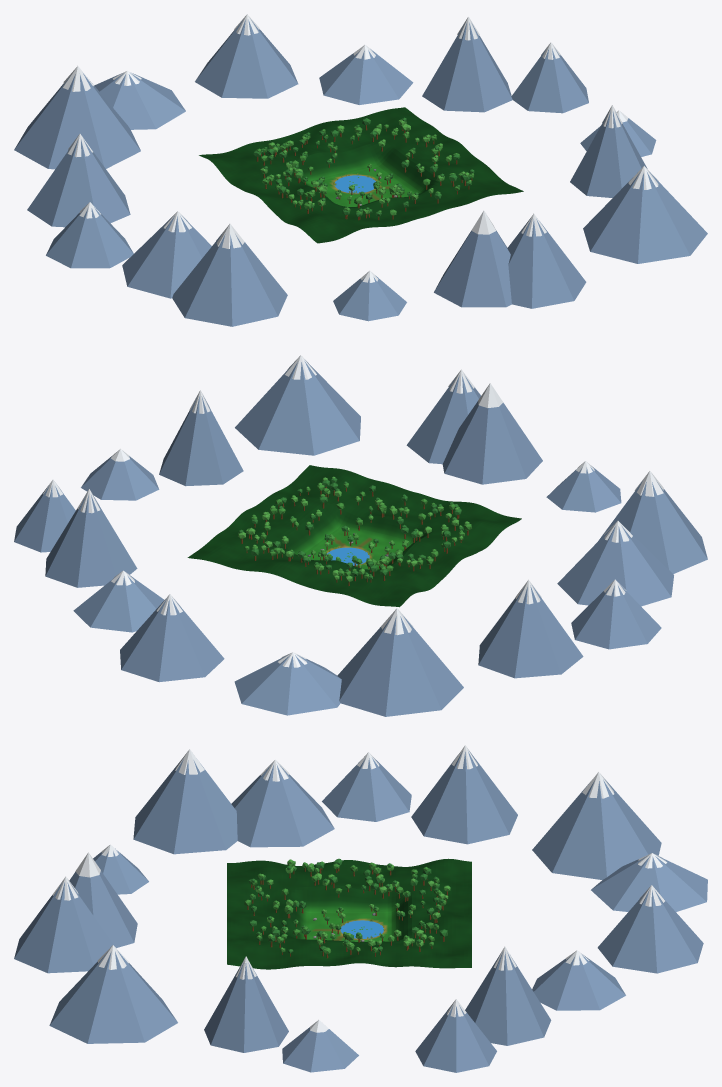
File: asagiTsuriba.glb
3 renders of one model, top to bottom at view 1: azimuth 30°, elevation 25°; view 2: azimuth 150°, elevation 25°; view 3: azimuth 270°, elevation 25°, orthographic. The views are drawn at different scales.
Visible parts, largest first — view 1: mountain, terrain, mountainSnow, leaf3, leaf1, leaf2, trunk, water; view 2: mountain, terrain, mountainSnow, leaf3, leaf1, leaf2, trunk; view 3: mountain, terrain, mountainSnow, leaf3, leaf1, leaf2, trunk, water.
Part boxes in pixels (bbox=[...]): mountain: bbox=[14, 19, 707, 326]; terrain: bbox=[199, 107, 523, 243]; mountainSnow: bbox=[63, 14, 658, 282]; leaf3: bbox=[253, 117, 474, 216]; leaf1: bbox=[257, 124, 473, 215]; leaf2: bbox=[260, 119, 473, 213]; trunk: bbox=[256, 125, 472, 220]; water: bbox=[334, 175, 375, 193]; mountain: bbox=[14, 360, 707, 716]; terrain: bbox=[187, 465, 521, 607]; mountainSnow: bbox=[43, 355, 663, 667]; leaf3: bbox=[239, 478, 463, 579]; leaf1: bbox=[244, 483, 471, 578]; leaf2: bbox=[237, 476, 469, 581]; trunk: bbox=[241, 487, 468, 585]; mountain: bbox=[14, 751, 707, 1072]; terrain: bbox=[227, 858, 471, 969]; mountainSnow: bbox=[52, 745, 667, 1032]; leaf3: bbox=[248, 858, 447, 953]; leaf1: bbox=[244, 861, 446, 953]; leaf2: bbox=[255, 859, 450, 951]; trunk: bbox=[247, 868, 447, 958]; water: bbox=[340, 920, 383, 938].
Size of the model in its own units: 256 by 33.39 by 259.
